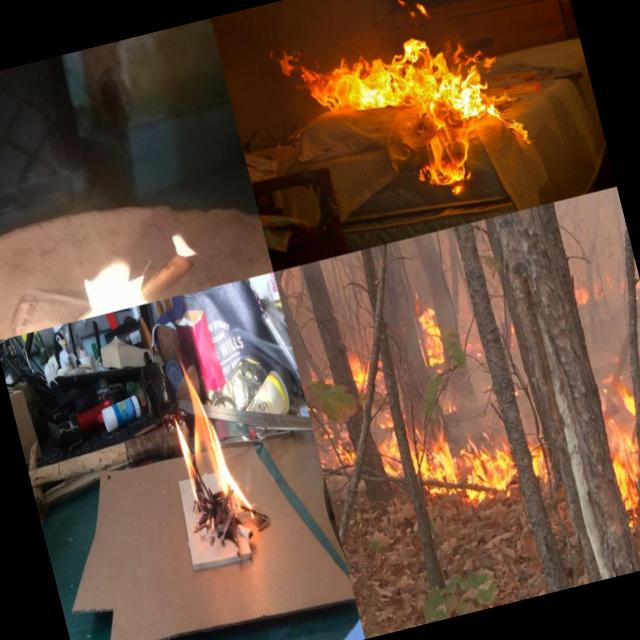fire: (268, 0, 540, 224), (0, 215, 206, 340), (162, 362, 260, 556), (408, 416, 522, 516), (410, 298, 450, 372), (367, 413, 407, 482), (603, 431, 640, 499), (340, 340, 370, 390)
